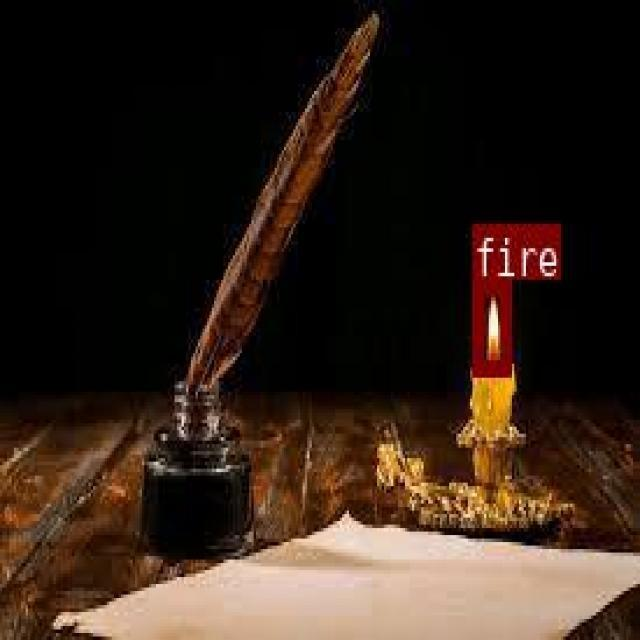fire: (472, 278, 509, 373)
